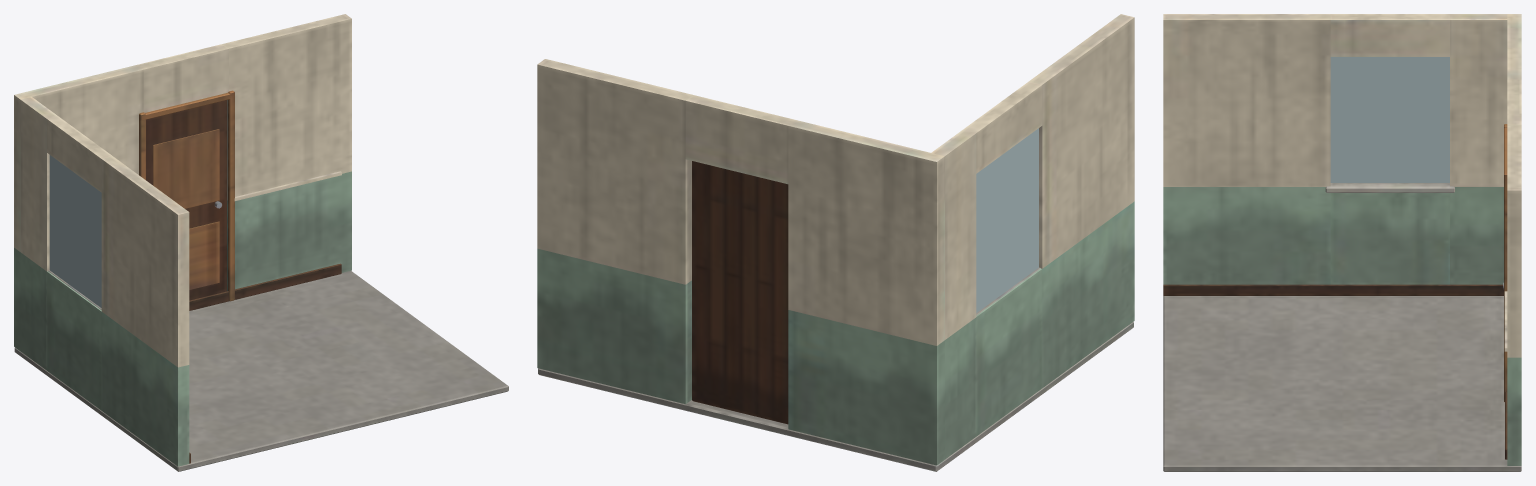
Rendered from room_shell.glb.
3 renders of one model, left to right at view 1: azimuth 30°, elevation 25°; view 2: azimuth 150°, elevation 25°; view 3: azimuth 270°, elevation 25°, orthographic. The views are drawn at different scales.
Visible parts, largest first — view 1: room_shell; view 2: room_shell; view 3: room_shell.
Boxes of the visible parts, <box> form: room_shell: <box>14,14,508,471</box>; room_shell: <box>537,14,1134,471</box>; room_shell: <box>1163,14,1521,471</box>.
Bounding box in the file's own units: 3.5 × 2.6 × 3.
7 materials, 6 textured.
